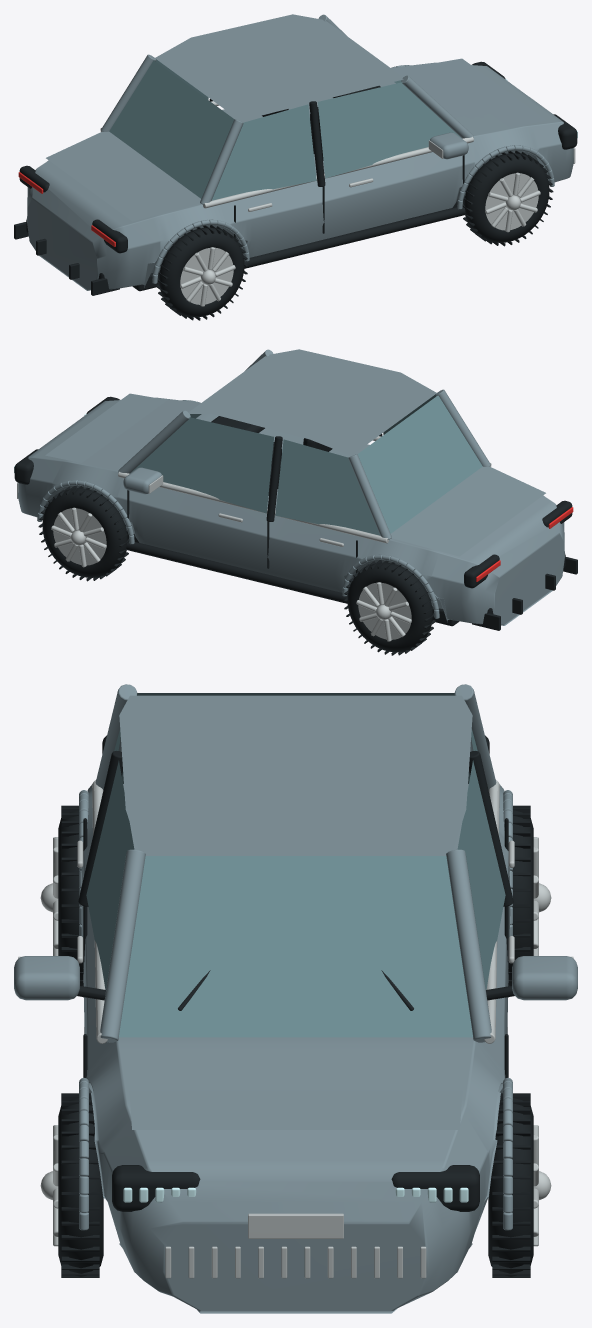
The model's file is DetailedSedan.fbx.
3 renders of one model, top to bottom at view 1: azimuth 30°, elevation 25°; view 2: azimuth 150°, elevation 25°; view 3: azimuth 270°, elevation 25°, orthographic. The views are drawn at different scales.
Parts seen in each view (by area): view 1: BodyPaint, Glazing, TrimRubber, TrimRubber.001, TrimRubber.002, BrushedAlloy.002, BrushedAlloy.001, BrushedAlloy; view 2: BodyPaint, Glazing, TrimRubber, TrimRubber.003, TrimRubber.004, BrushedAlloy.004, BrushedAlloy.003, BrushedAlloy; view 3: BodyPaint, Glazing, TrimRubber, BrushedAlloy, TrimRubber.004, TrimRubber.002, TrimRubber.001, TrimRubber.003, Headlamp, BrushedAlloy.002, BrushedAlloy.004, BrushedAlloy.001 (+1 smaller).
Part boxes in pixels (x1,y1,x2,y2): BodyPaint: [27, 14, 573, 290]; Glazing: [109, 59, 461, 200]; TrimRubber: [14, 61, 577, 295]; TrimRubber.001: [156, 225, 248, 320]; TrimRubber.002: [462, 150, 553, 246]; BrushedAlloy.002: [485, 172, 540, 232]; BrushedAlloy.001: [180, 247, 235, 306]; BrushedAlloy: [100, 97, 575, 211]; BodyPaint: [18, 349, 564, 625]; Glazing: [130, 394, 482, 535]; TrimRubber: [14, 396, 577, 630]; TrimRubber.003: [343, 560, 435, 655]; TrimRubber.004: [38, 485, 129, 581]; BrushedAlloy.004: [51, 507, 106, 567]; BrushedAlloy.003: [356, 582, 411, 641]; BrushedAlloy: [17, 432, 491, 546]; BodyPaint: [14, 684, 577, 1313]; Glazing: [86, 693, 505, 1037]; TrimRubber: [77, 735, 514, 1211]; BrushedAlloy: [18, 780, 573, 1278]; TrimRubber.004: [488, 1093, 533, 1277]; TrimRubber.002: [58, 1093, 103, 1277]; TrimRubber.001: [58, 805, 83, 986]; TrimRubber.003: [508, 805, 533, 986]; Headlamp: [123, 1187, 468, 1202]; BrushedAlloy.002: [40, 1125, 58, 1246]; BrushedAlloy.004: [533, 1125, 551, 1246]; BrushedAlloy.001: [40, 837, 58, 955].
Bounding box in the file's own units: 5.13 × 1.83 × 2.65.
